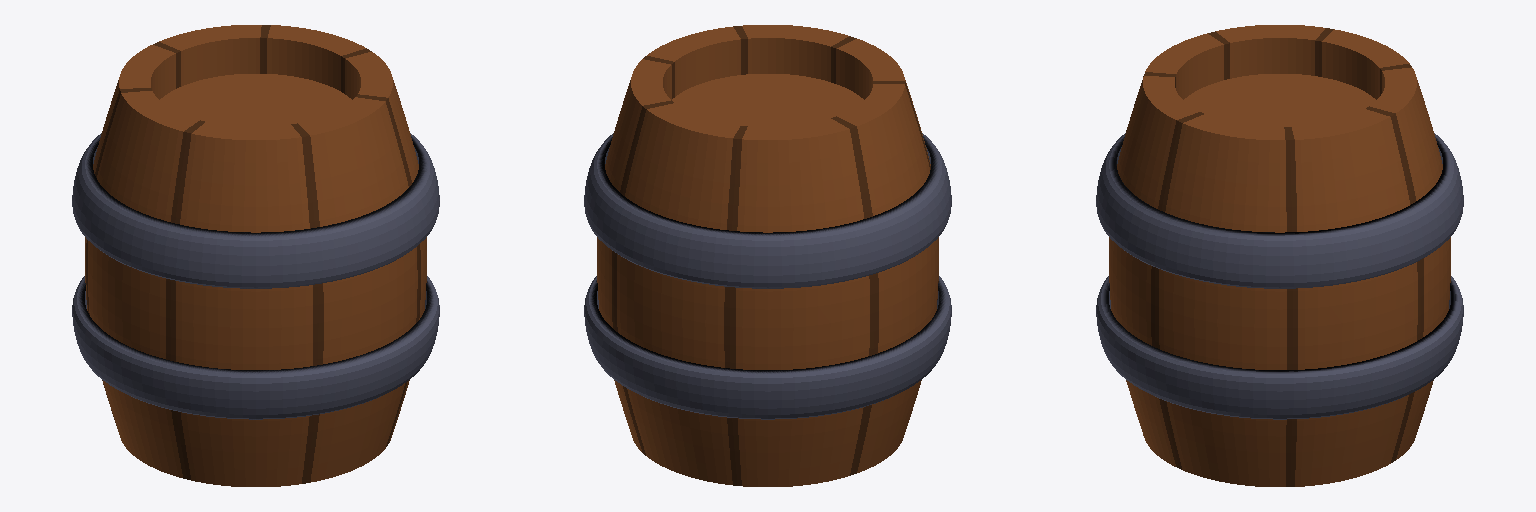
3 renders of one model, left to right at view 1: azimuth 30°, elevation 25°; view 2: azimuth 150°, elevation 25°; view 3: azimuth 270°, elevation 25°, orthographic.
Visible parts, largest first — view 1: Cylinder; view 2: Cylinder; view 3: Cylinder.
Part boxes in pixels (x1,y1,x2,y2): Cylinder: (72, 25, 439, 486); Cylinder: (584, 25, 951, 486); Cylinder: (1096, 25, 1463, 486).
Size of the model in its own units: 0.2112 by 0.22 by 0.2112.
Materials: 1 (1 with a texture image).